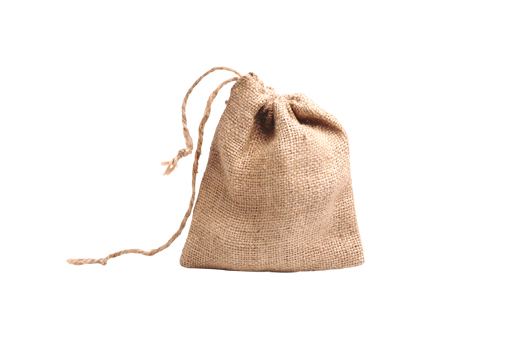flexible: (164, 62, 376, 281)
